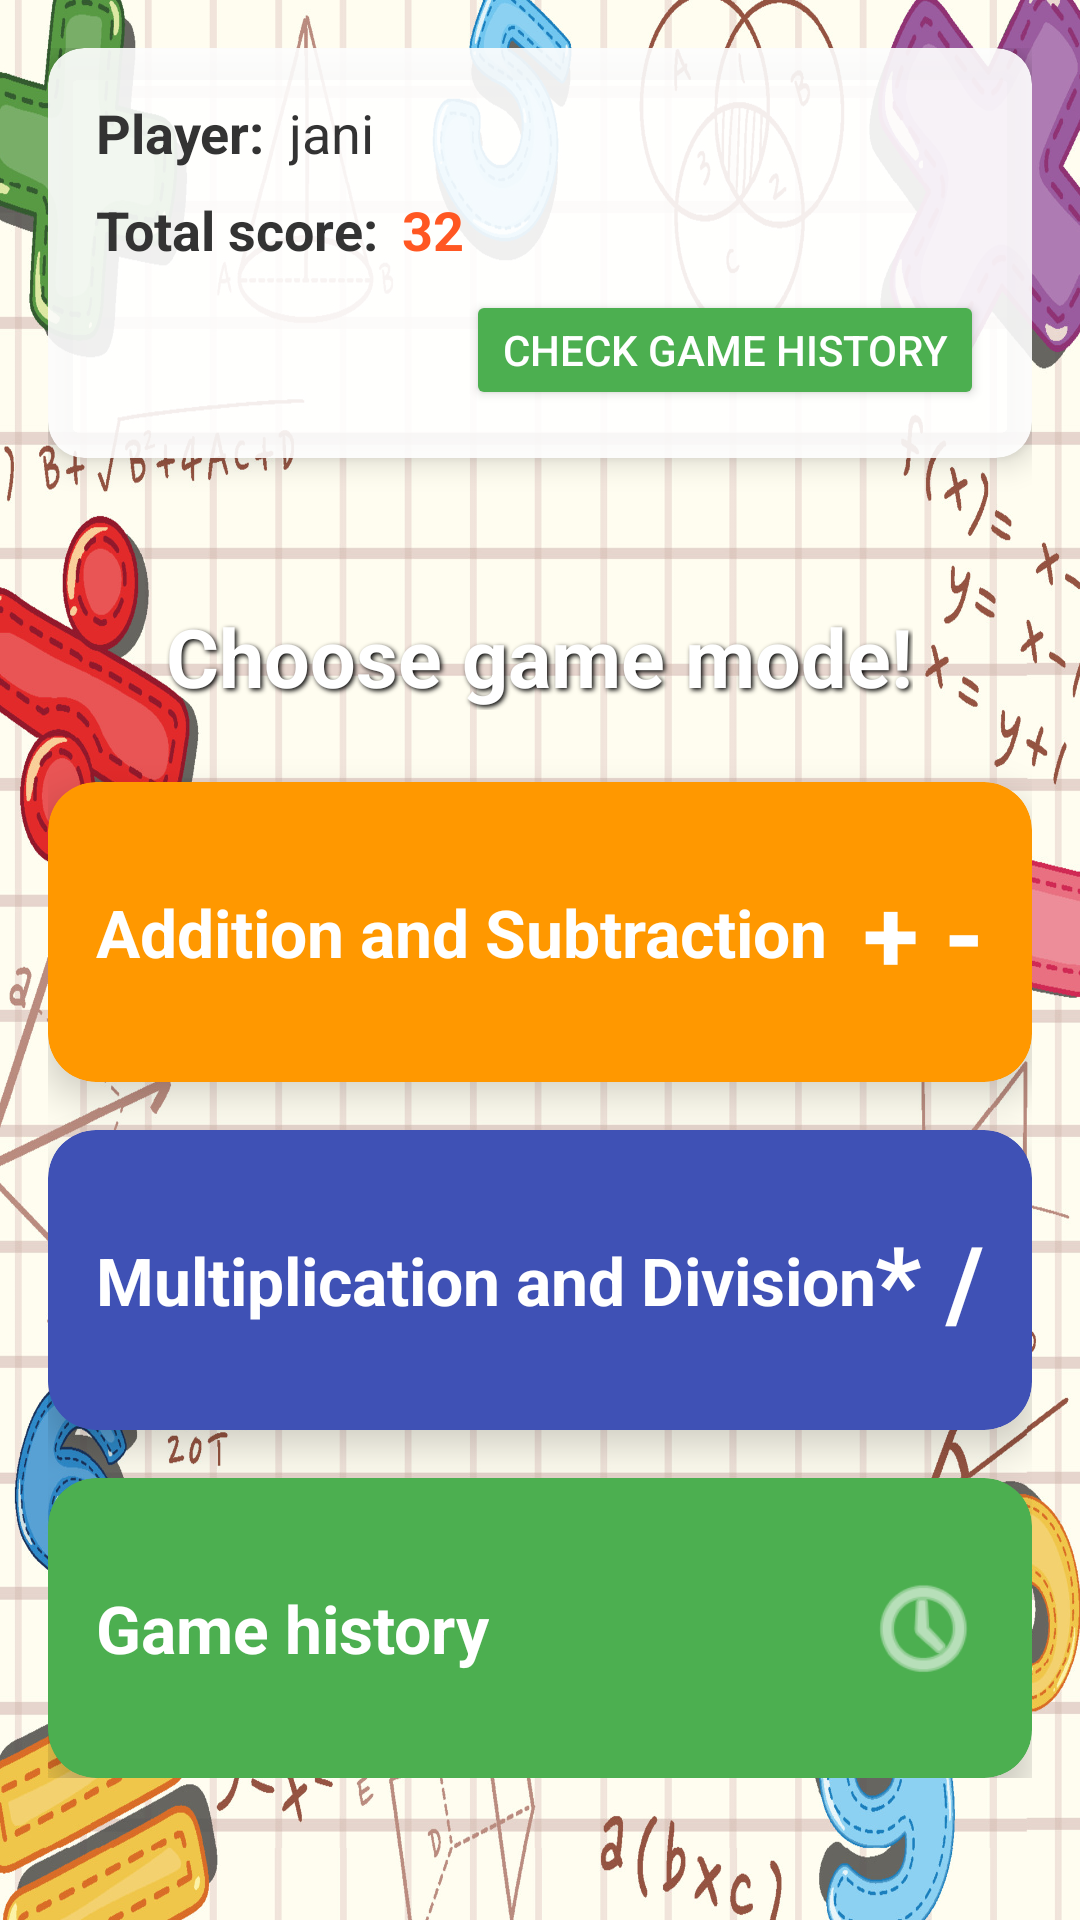

Icon bounding boxes for this 1080px×1920px phone screenshot, format box(x1, y1, x2, y2):
recent history: box(880, 1585, 967, 1672)
